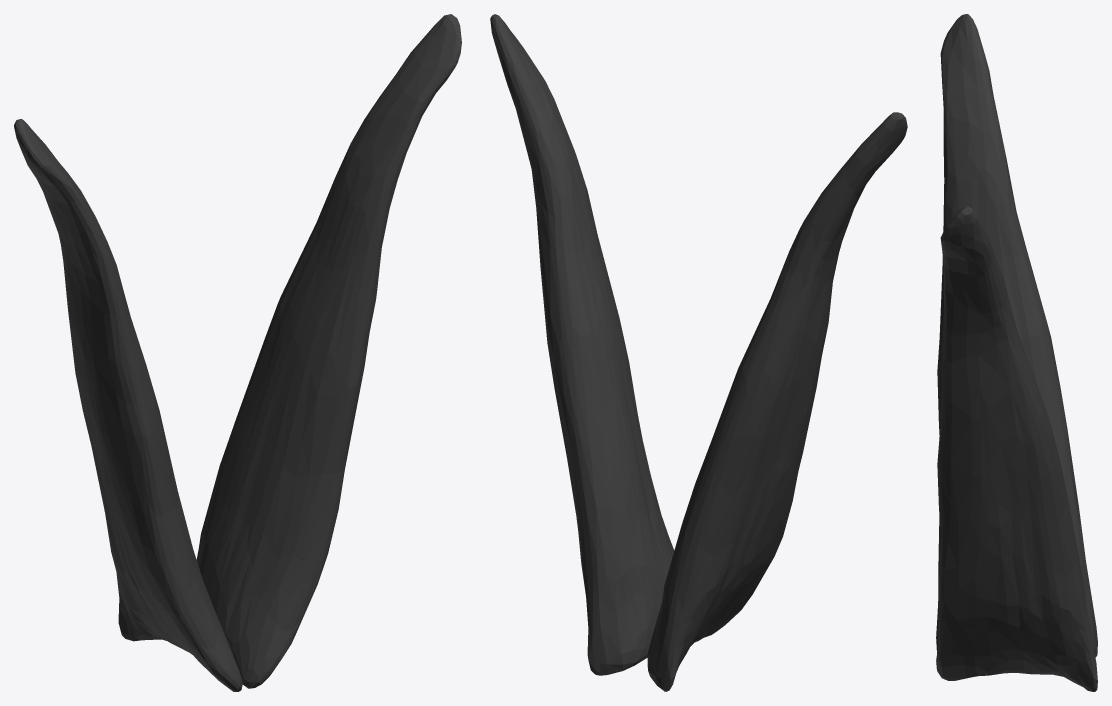
The model's file is m_gracilis.glb.
3 renders of one model, left to right at view 1: azimuth 30°, elevation 25°; view 2: azimuth 150°, elevation 25°; view 3: azimuth 270°, elevation 25°, orthographic. The views are drawn at different scales.
Parts seen in each view (by area): view 1: m_gracilis; view 2: m_gracilis; view 3: m_gracilis.
Part boxes in pixels (x1,y1,x2,y2): m_gracilis: [14, 14, 461, 691]; m_gracilis: [490, 14, 907, 691]; m_gracilis: [936, 14, 1097, 691].
Size of the model in its own units: 0.00423 by 0.00563 by 0.00146.
1 material, 1 textured.
